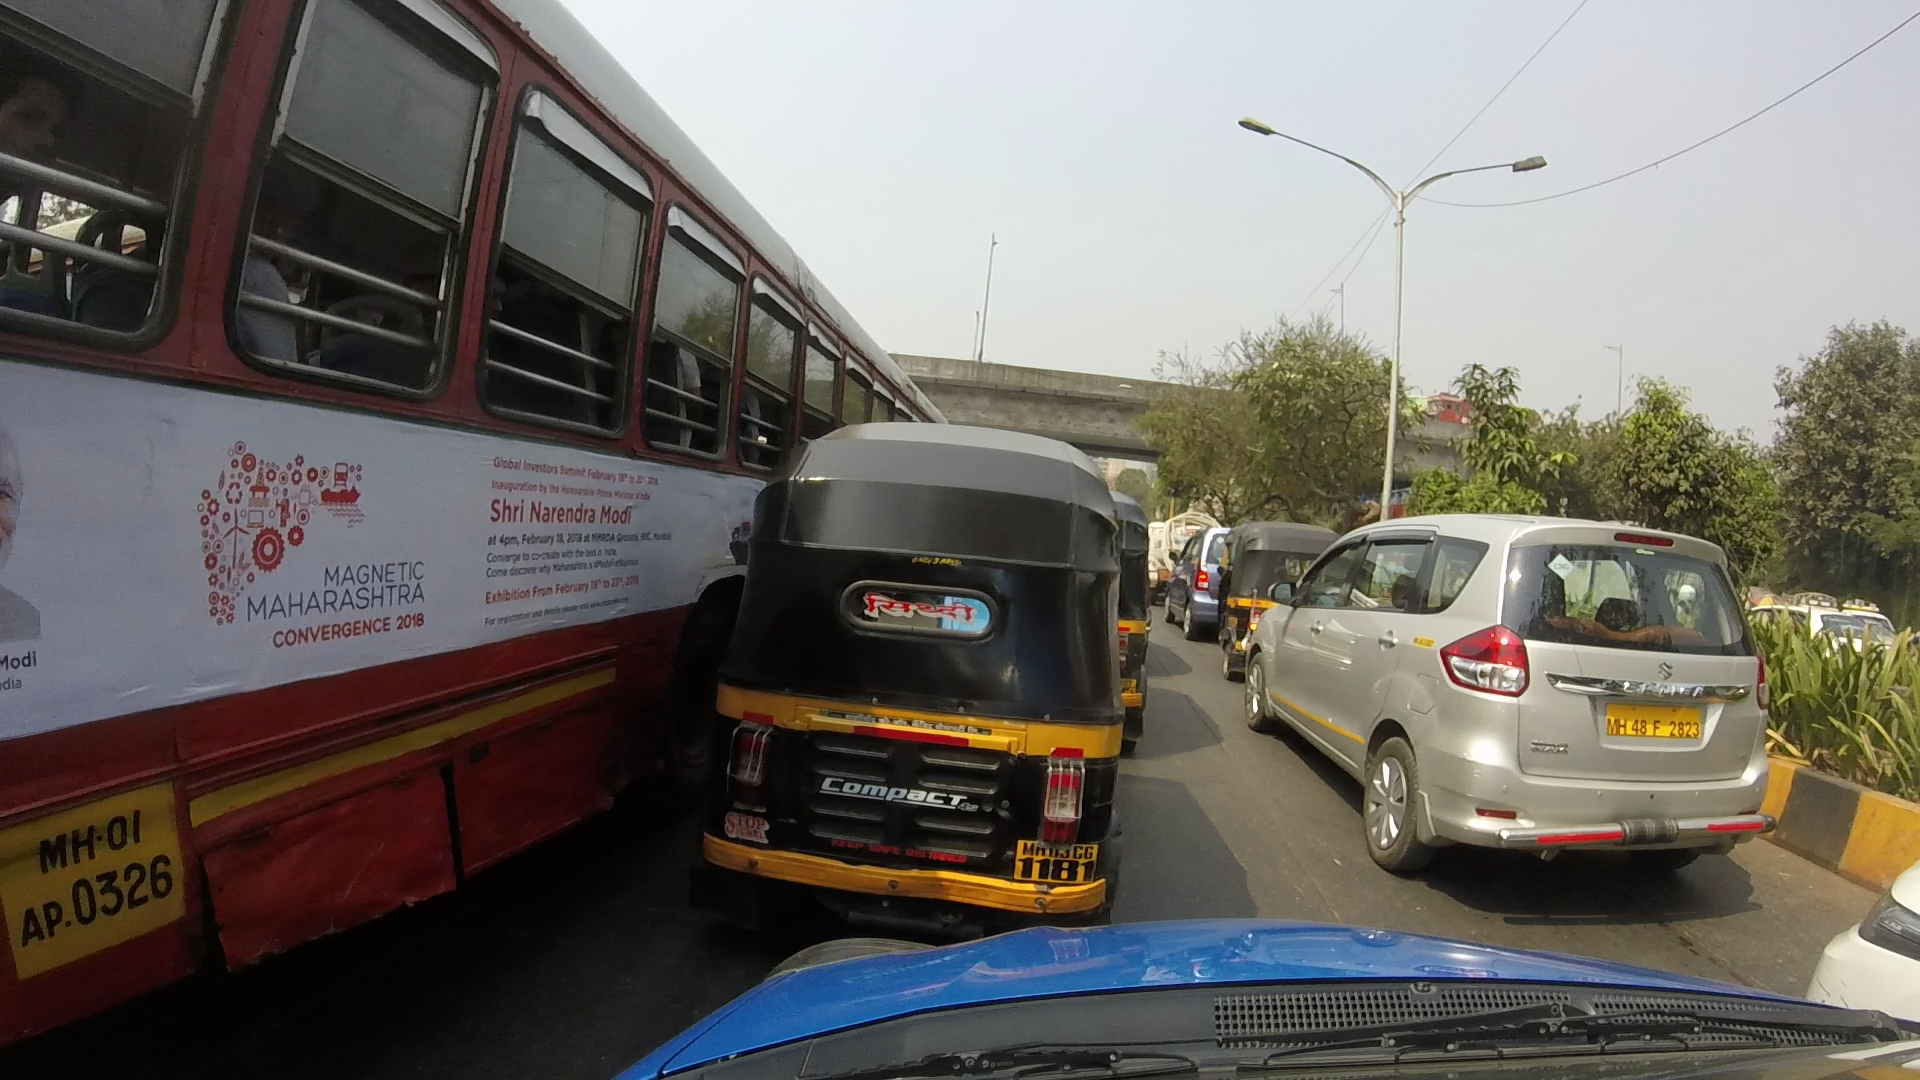bus: (11, 4, 924, 1065)
car: (1240, 534, 1812, 881)
rickshaw: (676, 413, 1154, 942), (1207, 504, 1327, 673)
